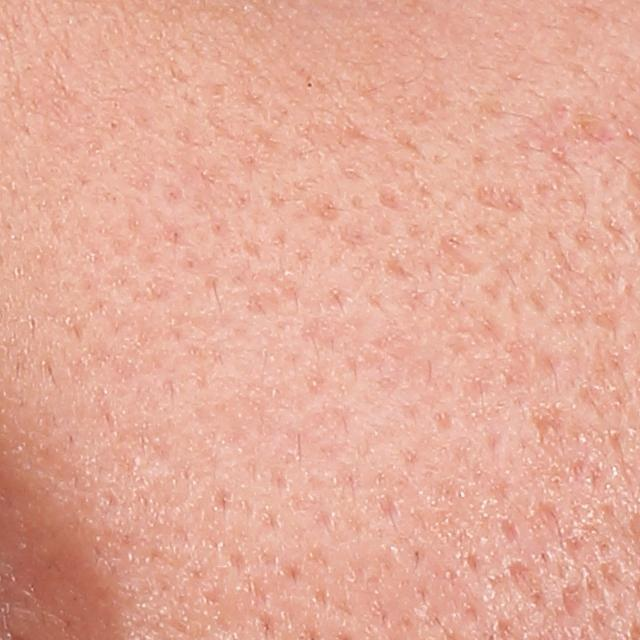atrophic_scar: (512, 94, 615, 171), (507, 560, 548, 612), (471, 182, 531, 215), (561, 580, 585, 622)
